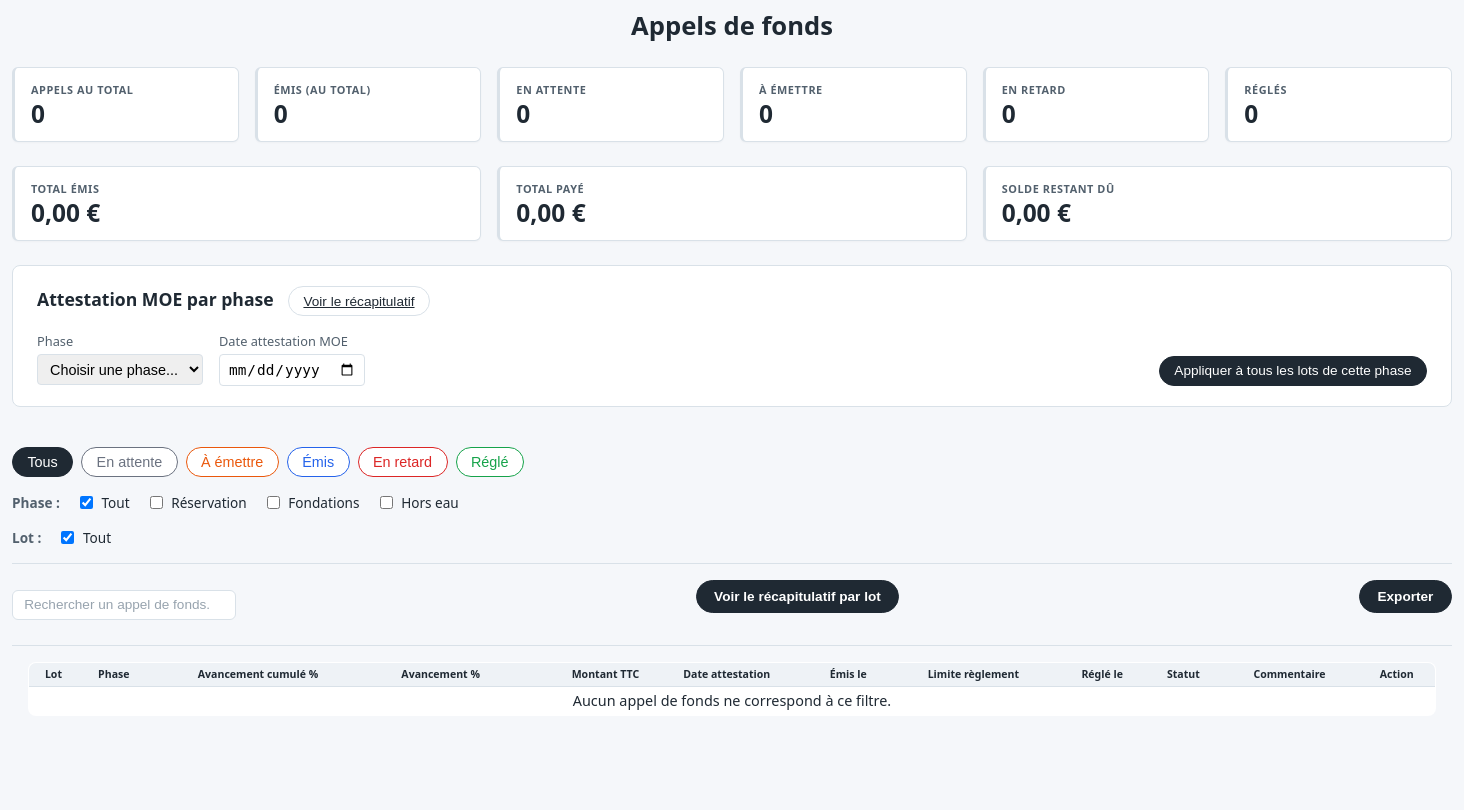
AppelsDeFonds — récapitulatif par lot › affiche un message si aucun appel de fonds n'existe
Expected: the text "Aucun appel de fonds ne correspond à ce filtre." is shown, [28,687,1436,715]
Click the button "Voir le récapitulatif par lot": (797, 597) [696,580,899,613]
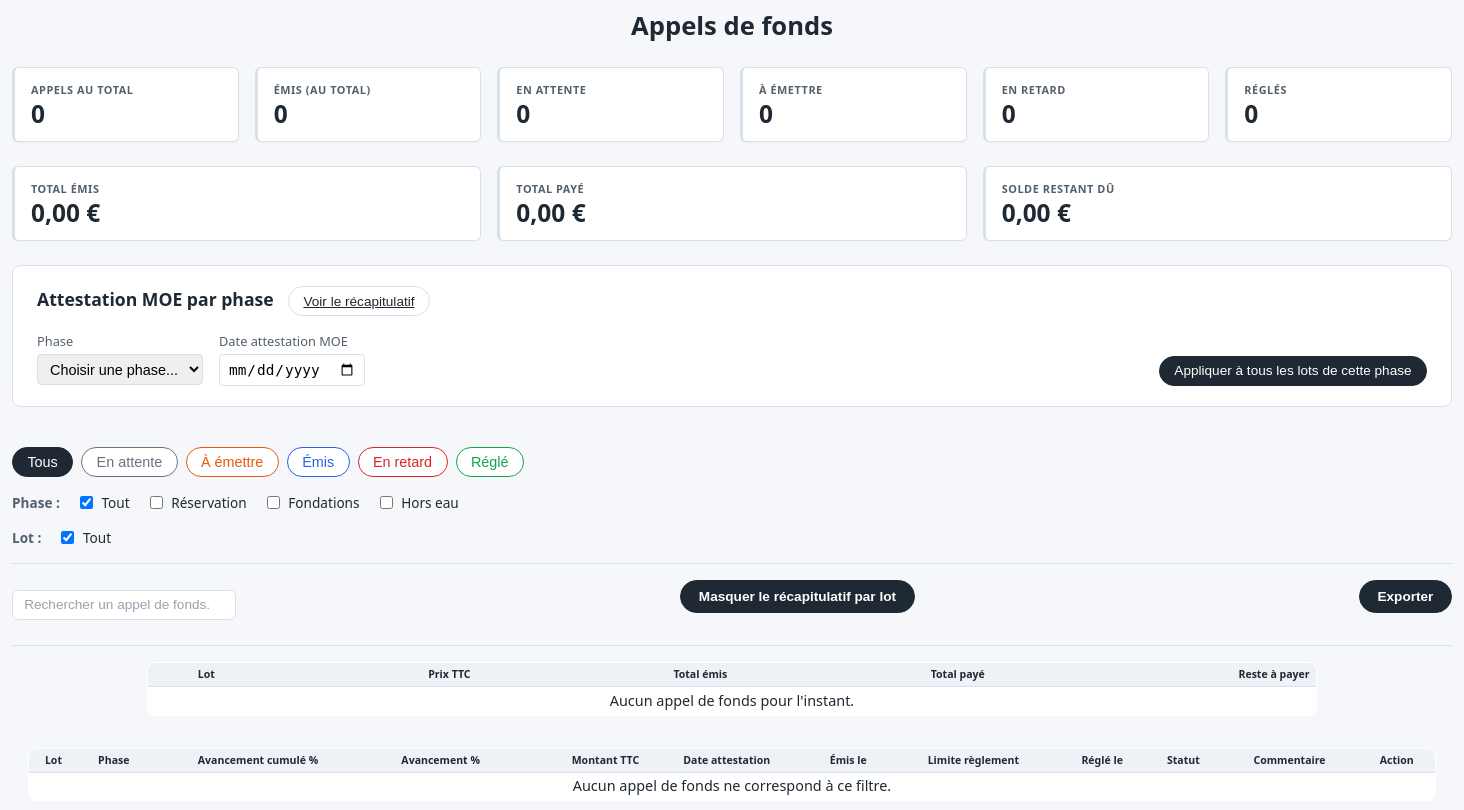
Now the text "Aucun appel de fonds pour l'instant." is shown, box [148,687,1316,715]
